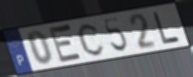0: (26, 29, 55, 67)
2: (128, 13, 158, 51)
5: (101, 16, 130, 53)
C: (77, 22, 107, 58)
E: (47, 22, 84, 65)
L: (151, 10, 183, 46)
